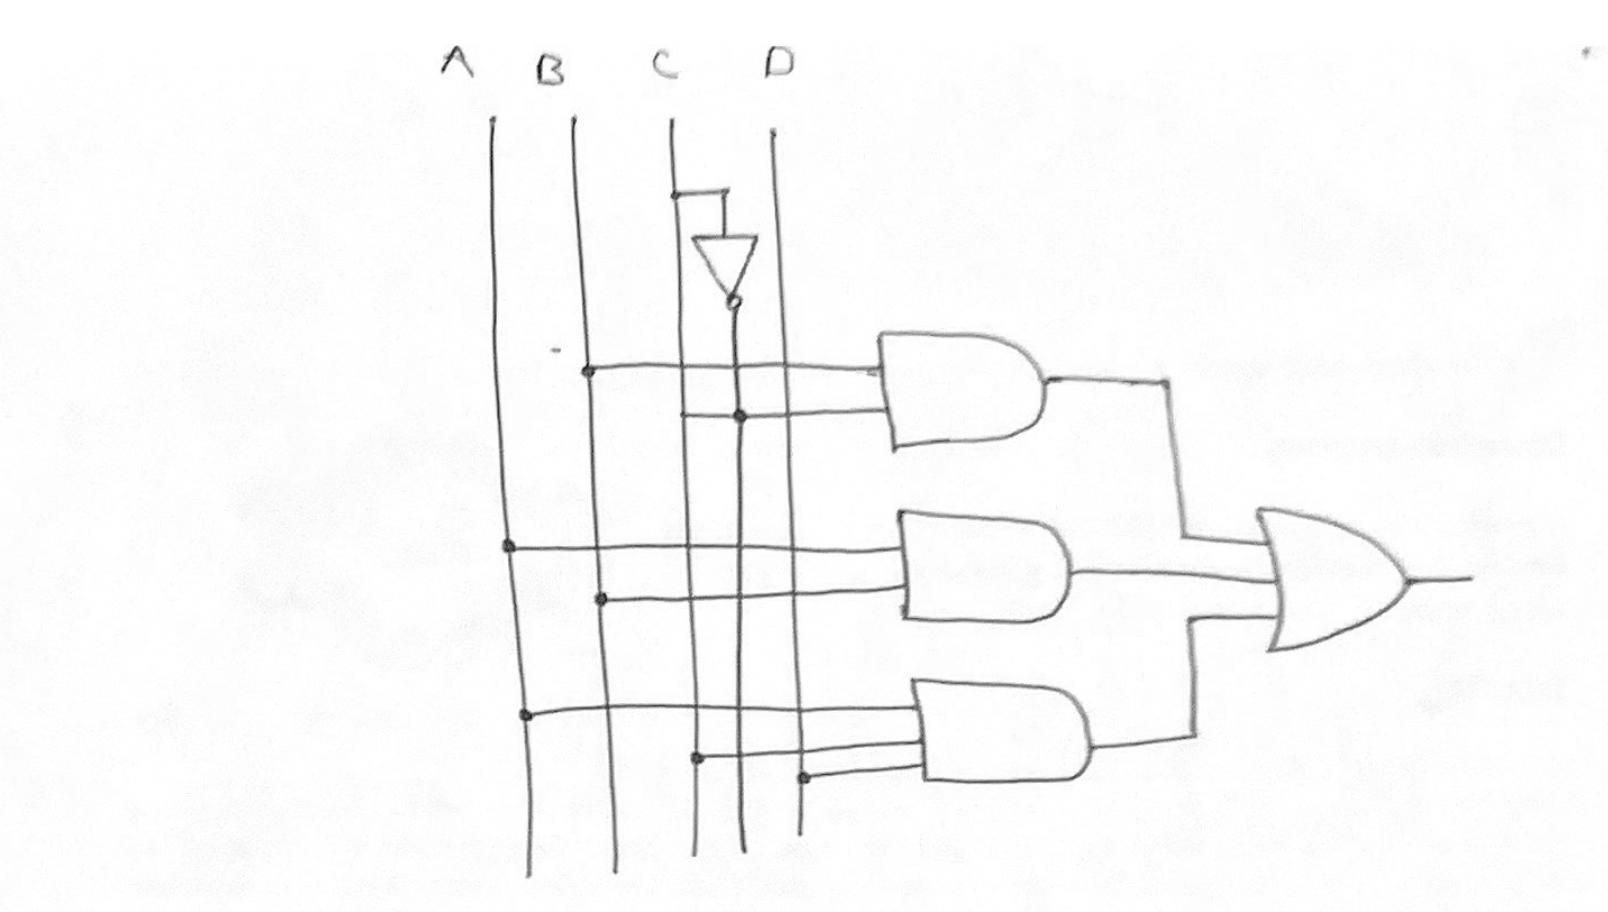AND: (885, 658, 1113, 821), (877, 495, 1092, 647), (867, 318, 1076, 465)
NOT: (687, 222, 771, 315)
OR: (1235, 470, 1417, 675)
